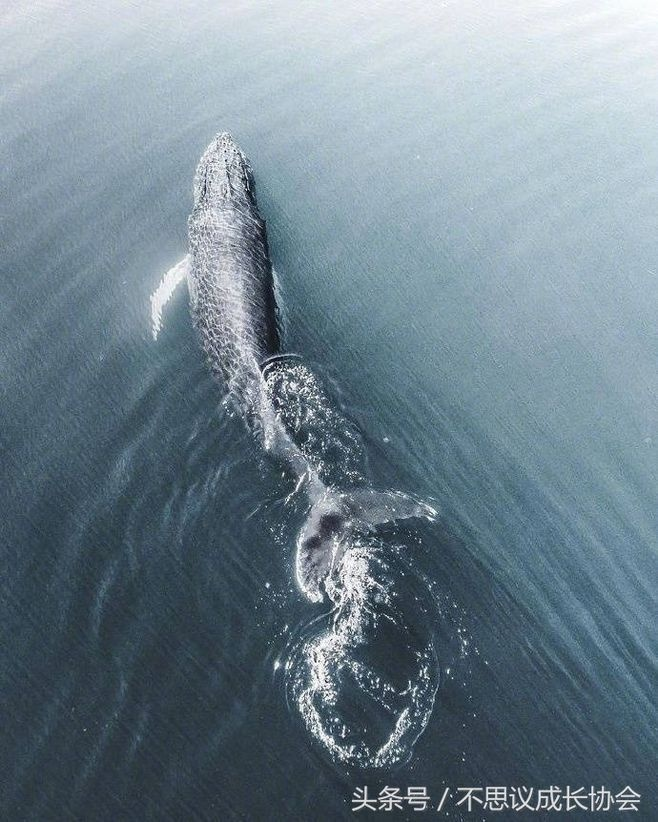fish: (160, 128, 443, 591)
